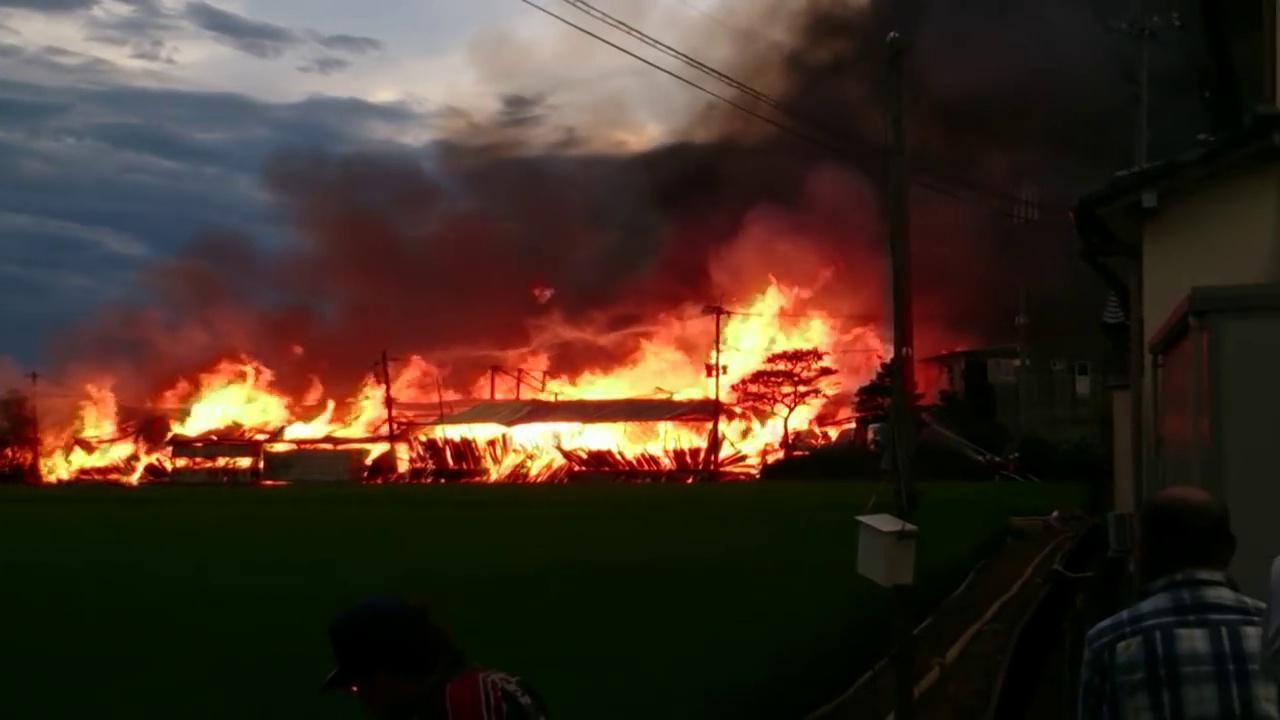Fire: (5, 278, 858, 483)
